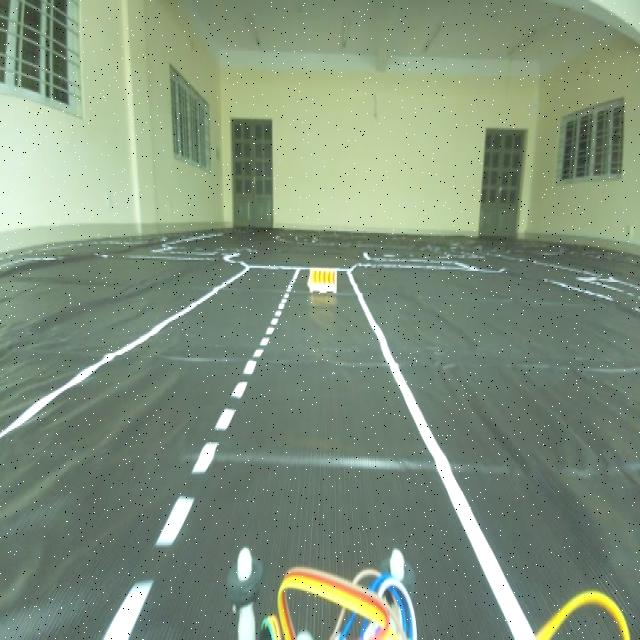roadblock: (300, 253, 346, 313)
